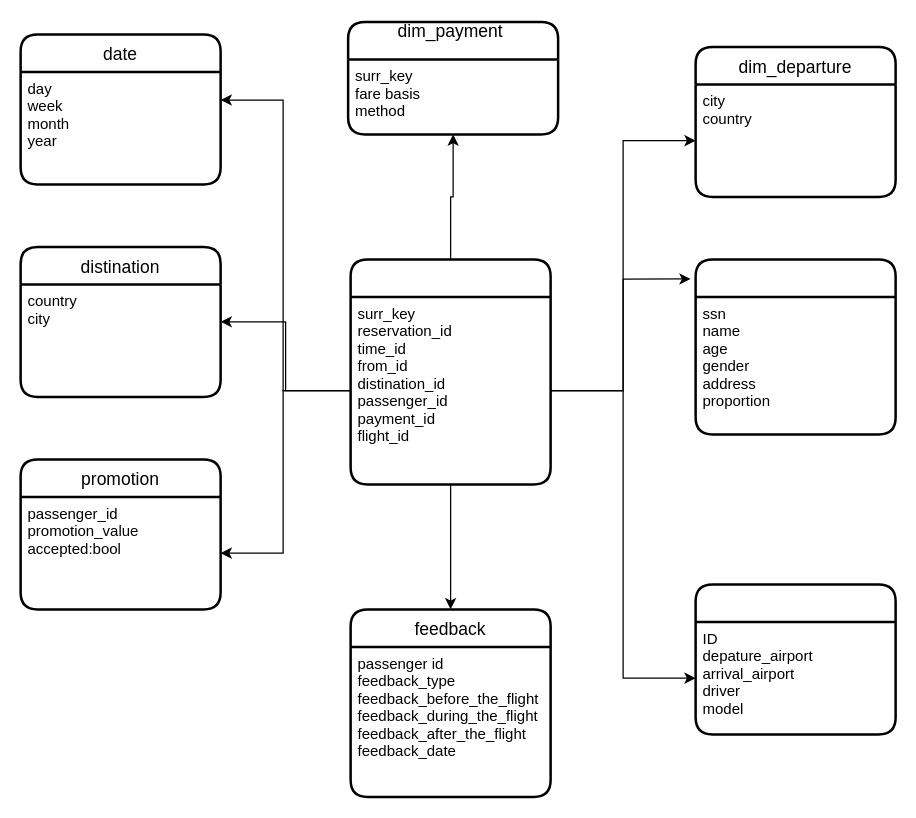
Some shapes in this 916 by 818 pixel diagram are drawn without their labels. Each missing label, with the box of its shape:
dim_passenger: (694, 258, 896, 435)
fact_reservation: (349, 258, 551, 485)
flight: (694, 582, 896, 735)
